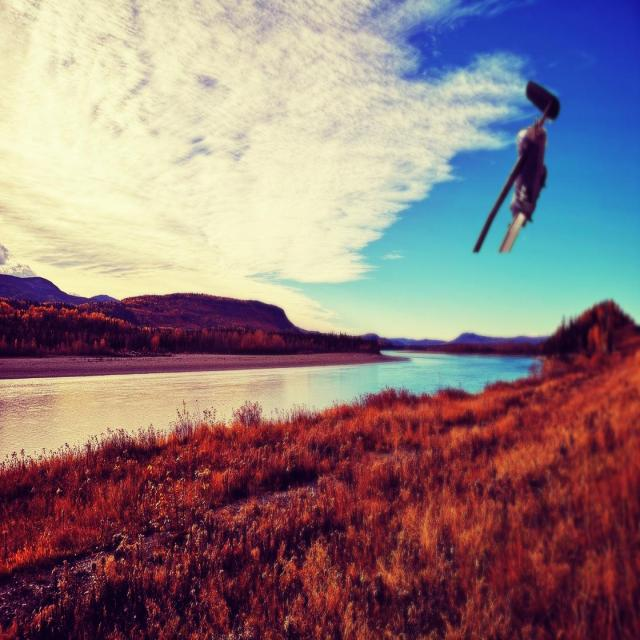airplane: (472, 80, 560, 253)
